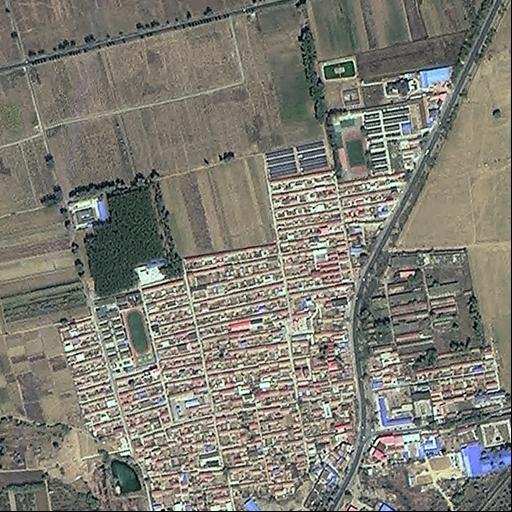school: (324, 99, 414, 182), (90, 287, 155, 375)
